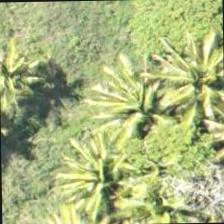Kelapa_Sawit: (89, 60, 181, 152), (0, 29, 58, 121), (165, 27, 223, 119)
